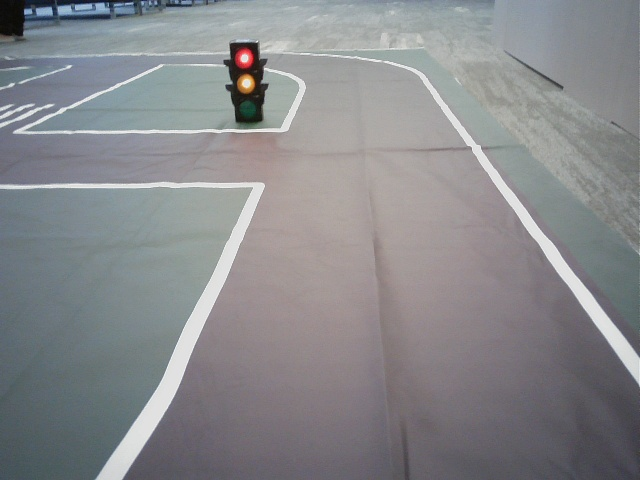red: (232, 45, 262, 119)
